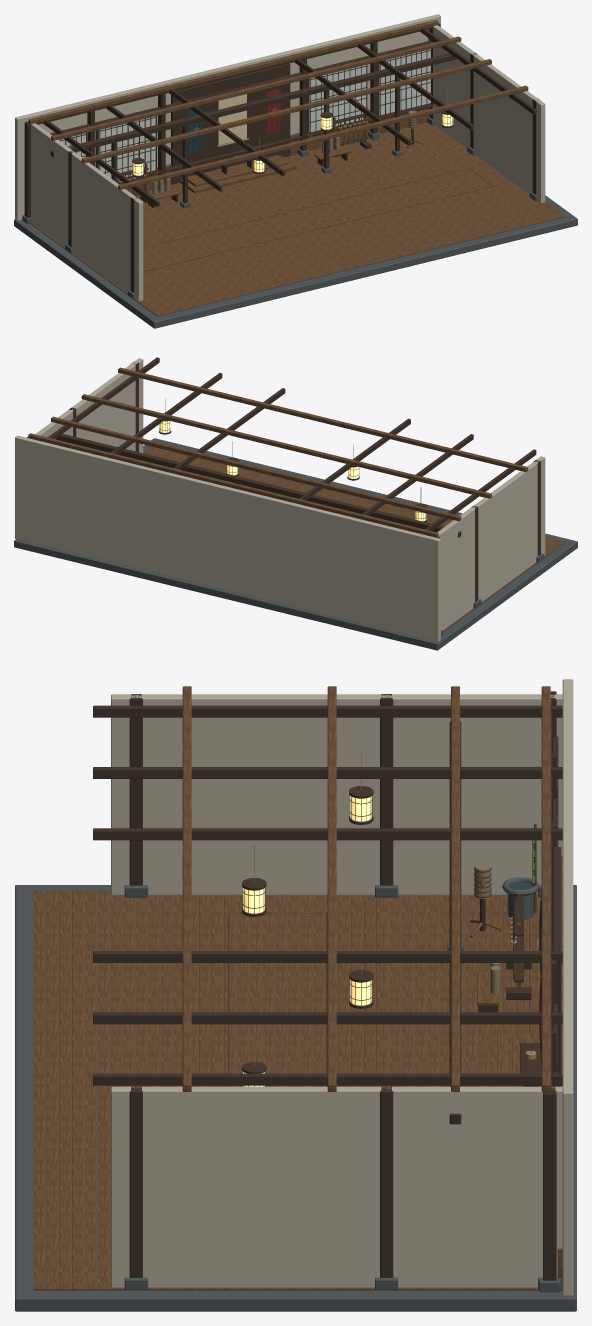
The model's file is dojo.glb.
3 views of the same model, one above another, from view 1: azimuth 30°, elevation 25°; view 2: azimuth 150°, elevation 25°; view 3: azimuth 270°, elevation 25° (orthographic). The views are drawn at different scales.
Parts seen in each view (by area): view 1: Dojo Lime plaster, Dojo Smoked oak, Dojo Oiled cedar, Floor | Cedar tone 2, Floor | Cedar tone 0, Floor | Cedar tone 1, Floor | Oiled cedar, Floor | Cedar tone 3, Dojo Charcoal foundation, Dojo Rice paper, Dojo Scroll silk, Floor | Smoked oak (+5 smaller); view 2: Dojo Lime plaster, Dojo Oiled cedar, Dojo Smoked oak, Dojo Charcoal foundation, Floor | Oiled cedar, Floor | Cedar tone 1, Floor | Cedar tone 2, Floor | Cedar tone 3, Floor | Cedar tone 0, Dojo Lantern silk; view 3: Dojo Lime plaster, Dojo Smoked oak, Dojo Charcoal foundation, Floor | Oiled cedar, Floor | Cedar tone 1, Dojo Oiled cedar, Floor | Cedar tone 3, Floor | Cedar tone 0, Floor | Cedar tone 2, Dojo Lantern silk, Dojo Aged bronze, Dojo Hemp cord.
Boxes of the visible parts, left/top/right/bottom form: Dojo Lime plaster: left=15, top=14, right=545, bottom=301; Dojo Smoked oak: left=24, top=23, right=540, bottom=292; Dojo Oiled cedar: left=28, top=20, right=528, bottom=199; Floor | Cedar tone 2: left=31, top=123, right=542, bottom=291; Floor | Cedar tone 0: left=75, top=122, right=521, bottom=305; Floor | Cedar tone 1: left=62, top=127, right=555, bottom=313; Floor | Oiled cedar: left=33, top=123, right=552, bottom=316; Floor | Cedar tone 3: left=43, top=125, right=565, bottom=296; Dojo Charcoal foundation: left=14, top=117, right=577, bottom=328; Dojo Rice paper: left=59, top=49, right=430, bottom=179; Dojo Scroll silk: left=218, top=94, right=246, bottom=145; Floor | Smoked oak: left=143, top=168, right=493, bottom=271; Dojo Lime plaster: left=15, top=358, right=545, bottom=642; Dojo Oiled cedar: left=28, top=367, right=528, bottom=537; Dojo Smoked oak: left=26, top=357, right=540, bottom=602; Dojo Charcoal foundation: left=14, top=438, right=577, bottom=650; Floor | Oiled cedar: left=143, top=449, right=565, bottom=632; Floor | Cedar tone 1: left=145, top=449, right=562, bottom=612; Floor | Cedar tone 2: left=157, top=452, right=524, bottom=621; Floor | Cedar tone 3: left=148, top=446, right=536, bottom=625; Floor | Cedar tone 0: left=245, top=474, right=486, bottom=602; Dojo Lantern silk: left=159, top=420, right=426, bottom=521; Dojo Lime plaster: left=111, top=679, right=573, bottom=1295; Dojo Smoked oak: left=93, top=691, right=562, bottom=1280; Dojo Charcoal foundation: left=15, top=877, right=576, bottom=1311; Floor | Oiled cedar: left=34, top=890, right=540, bottom=1290; Floor | Cedar tone 1: left=46, top=890, right=528, bottom=1290; Dojo Oiled cedar: left=182, top=686, right=562, bottom=1288; Floor | Cedar tone 3: left=34, top=895, right=539, bottom=1290; Floor | Cedar tone 0: left=34, top=895, right=562, bottom=1290; Floor | Cedar tone 2: left=34, top=895, right=541, bottom=1290; Dojo Lantern silk: left=243, top=796, right=371, bottom=1086; Dojo Aged bronze: left=243, top=752, right=537, bottom=1086; Dojo Hemp cord: left=474, top=862, right=515, bottom=994.
Size of the model in its own units: 27 by 6.69 by 15.5.
Materials: 17 (5 with a texture image).
